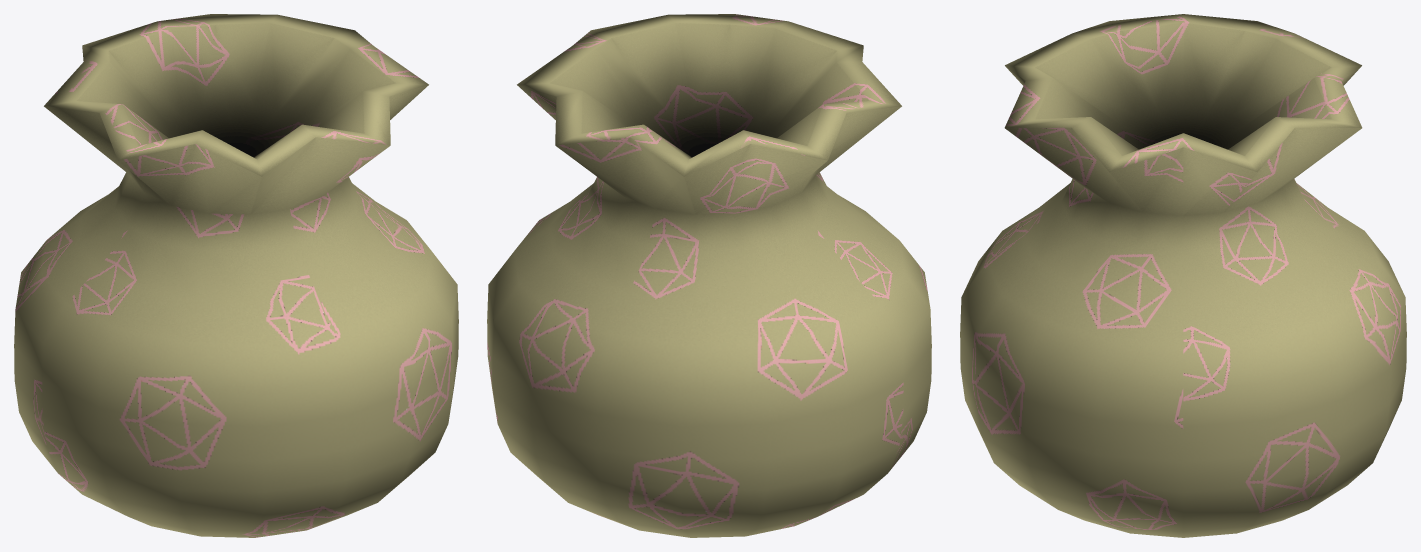
Rendered from dicebag.glb.
3 renders of one model, left to right at view 1: azimuth 30°, elevation 25°; view 2: azimuth 150°, elevation 25°; view 3: azimuth 270°, elevation 25°, orthographic.
Visible parts, largest first — view 1: Dicebag; view 2: Dicebag; view 3: Dicebag.
Boxes of the visible parts, x1,y1,x2,y2 form: Dicebag: (14,14,458,537); Dicebag: (487,14,931,537); Dicebag: (960,14,1406,537).
Bounding box in the file's own units: 1.78 × 1.83 × 1.78.
Materials: 1 (1 with a texture image).
